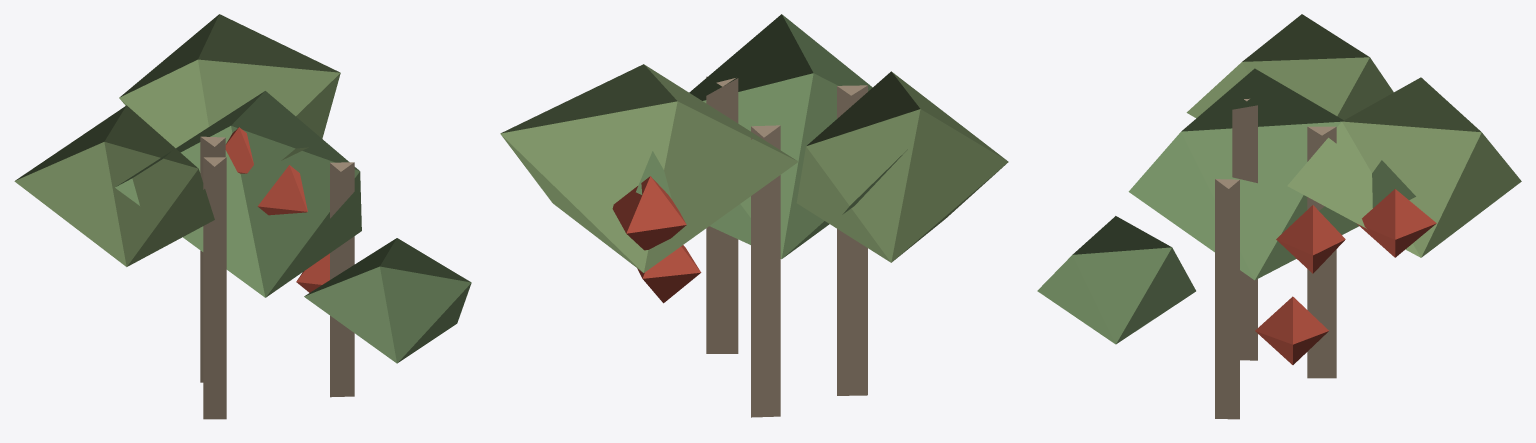
File: shrub.temp.bush__summer.glb
3 renders of one model, left to right at view 1: azimuth 30°, elevation 25°; view 2: azimuth 150°, elevation 25°; view 3: azimuth 270°, elevation 25°, orthographic. The views are drawn at different scales.
Parts seen in each view (by area): view 1: shrub.temp.bush__summer; view 2: shrub.temp.bush__summer; view 3: shrub.temp.bush__summer.
Part boxes in pixels (left/top/right/bottom): shrub.temp.bush__summer: left=14, top=14, right=471, bottom=419; shrub.temp.bush__summer: left=500, top=14, right=1008, bottom=417; shrub.temp.bush__summer: left=1037, top=14, right=1521, bottom=419.
Bounding box in the file's own units: 1.94 × 1.71 × 2.27.
